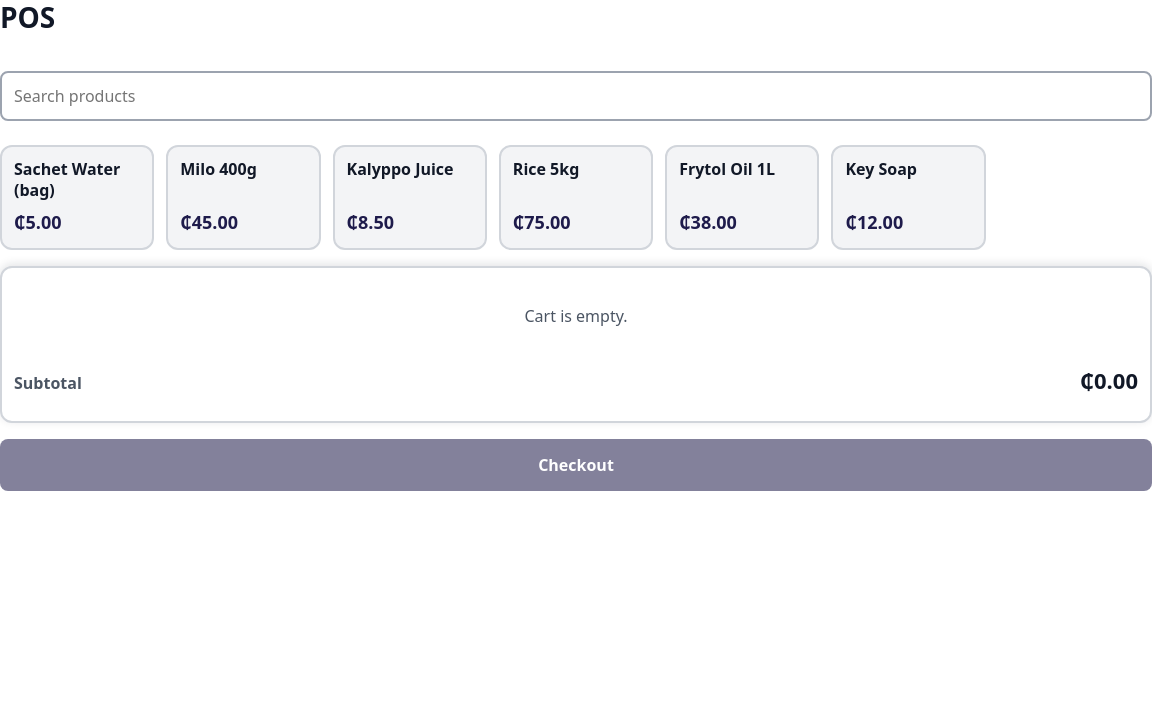
it: PosScreen — happy checkout path › keeps the checkout modal open and shows the failed state when enqueue rejects
Click the button "Milo 400g ₵45.00".
click(243, 197)  # box [166,145,321,250]
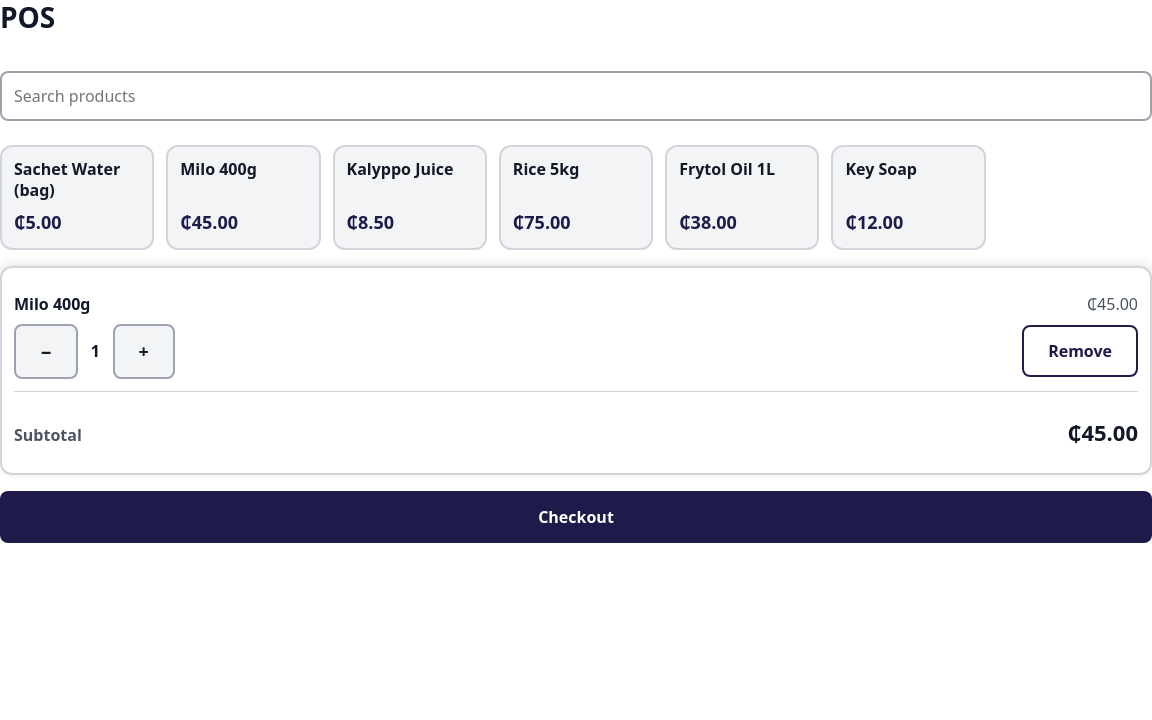
Click the button "Checkout".
click(576, 517)  # box [0,491,1151,543]
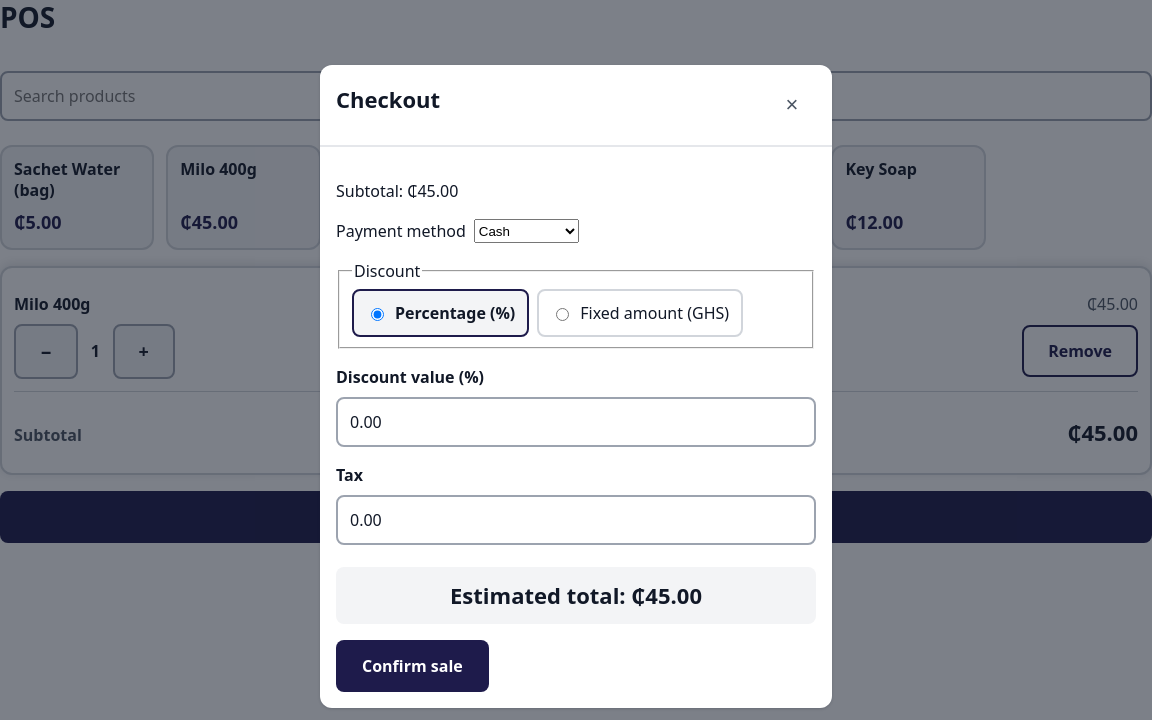
Click the button "Confirm sale".
click(412, 666)  # box [336,640,489,692]
(page scrolled)
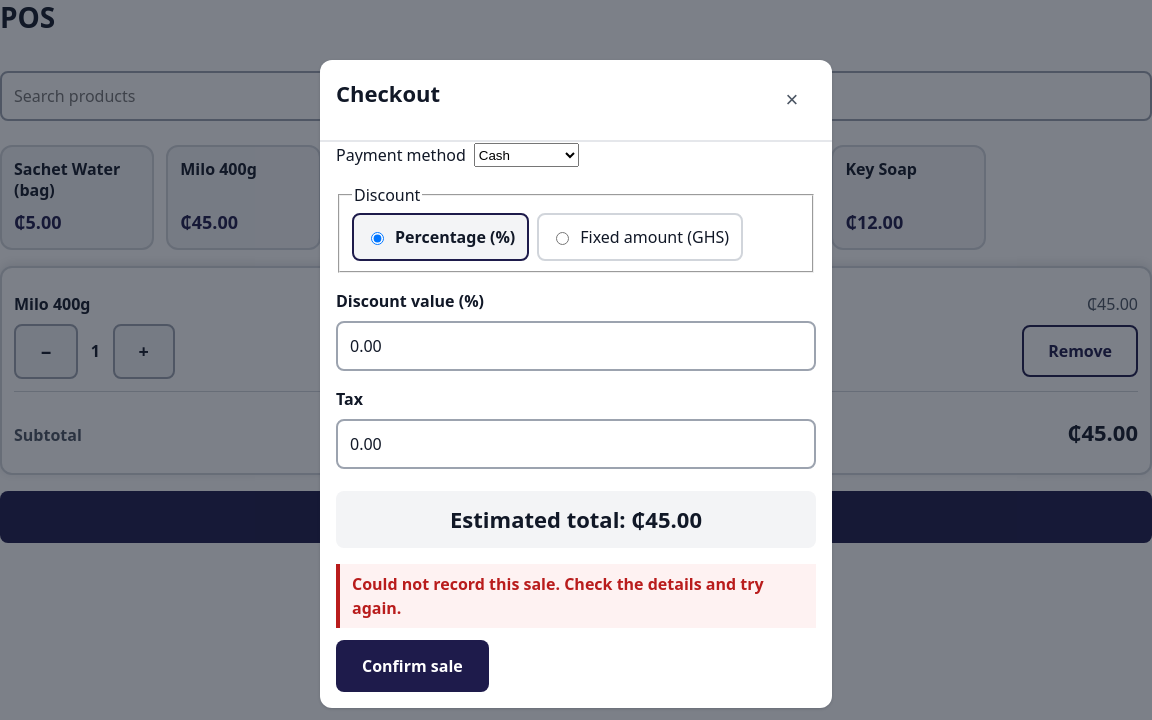
Expected: the text "Cart is empty." is not shown
Expected: the button "Confirm sale" is shown, [336,640,489,692]
Expected: the text "Could not record this sale. Check the details and try again." is shown, [336,564,816,628]
